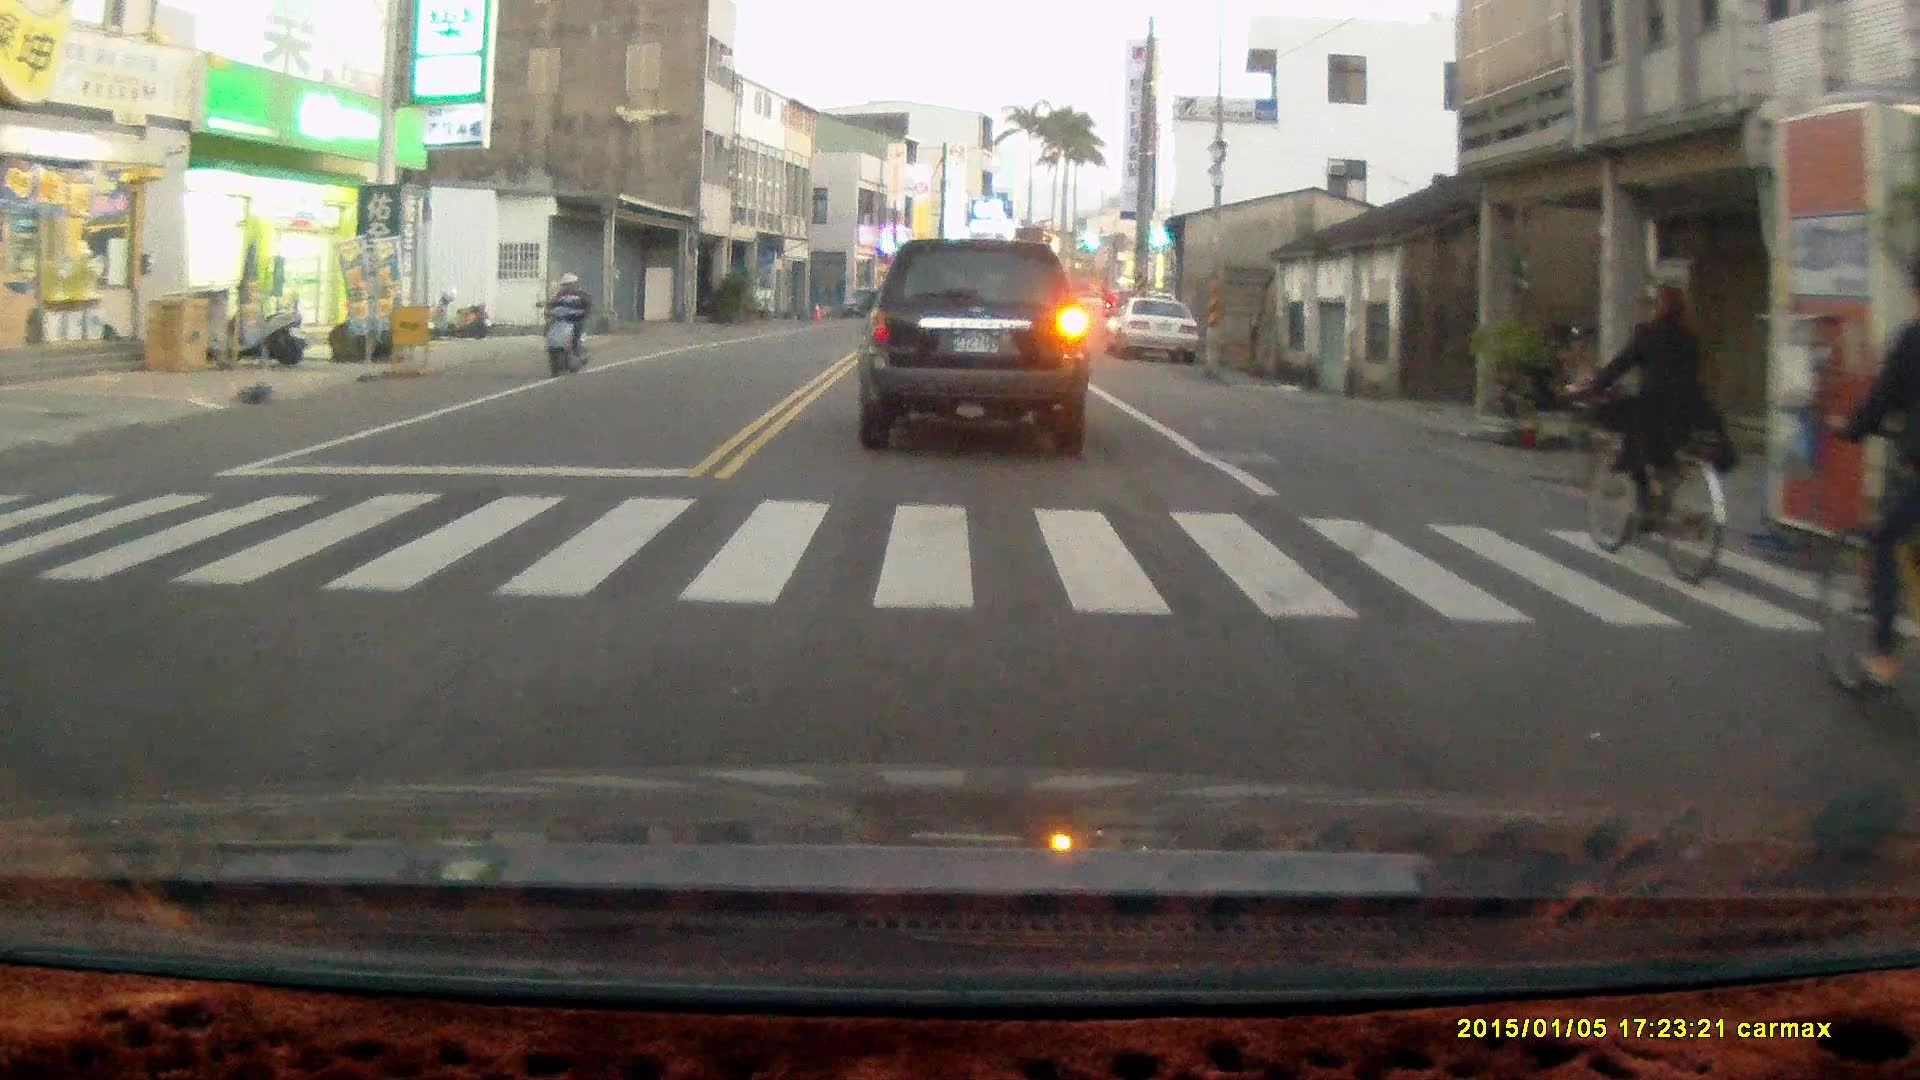rider: (1576, 279, 1727, 588), (1816, 280, 1920, 708), (535, 269, 594, 381)
vehicle: (864, 240, 1095, 464), (1111, 300, 1201, 366)
